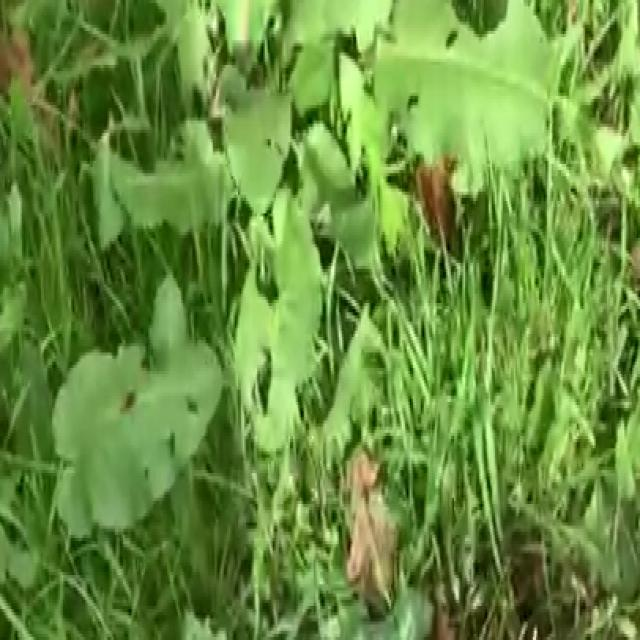organic waste: (39, 0, 552, 572)
